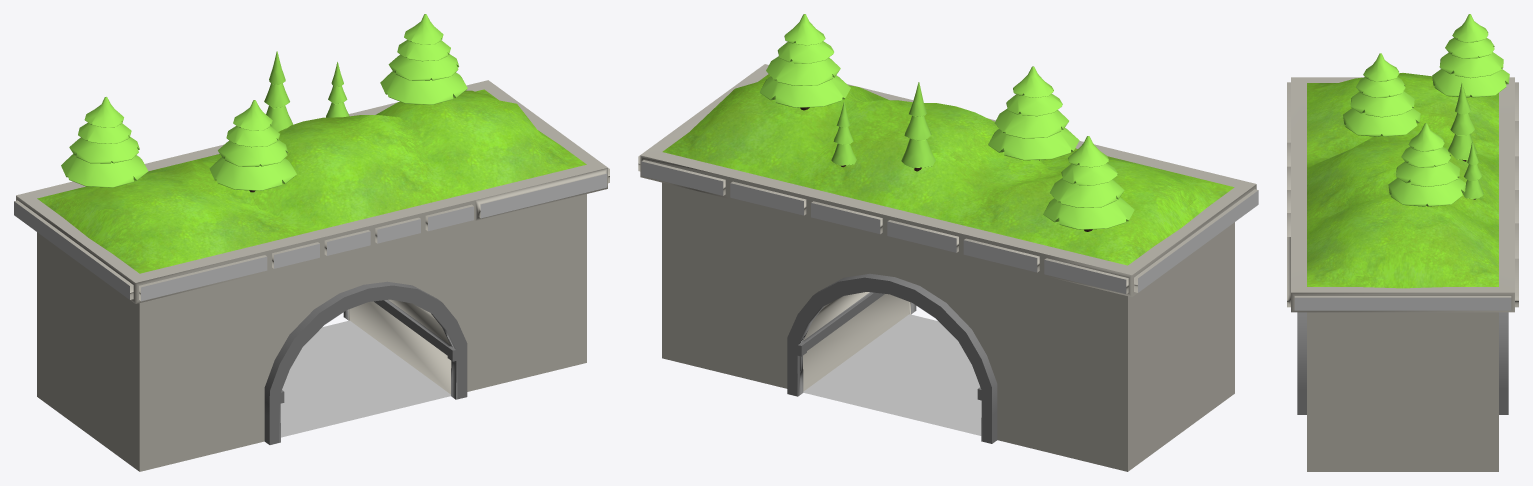
File: Tunel.fbx
3 views of the same model, side by side, from view 1: azimuth 30°, elevation 25°; view 2: azimuth 150°, elevation 25°; view 3: azimuth 270°, elevation 25° (orthographic). The views are drawn at different scales.
Visible parts, largest first — view 1: Tunel; view 2: Tunel; view 3: Tunel.
Boxes of the visible parts, x1,y1,x2,y2 form: Tunel: (14, 14, 609, 471); Tunel: (638, 14, 1258, 471); Tunel: (1287, 14, 1518, 471).
Bounding box in the file's own units: 16172 × 10482 × 7241.
